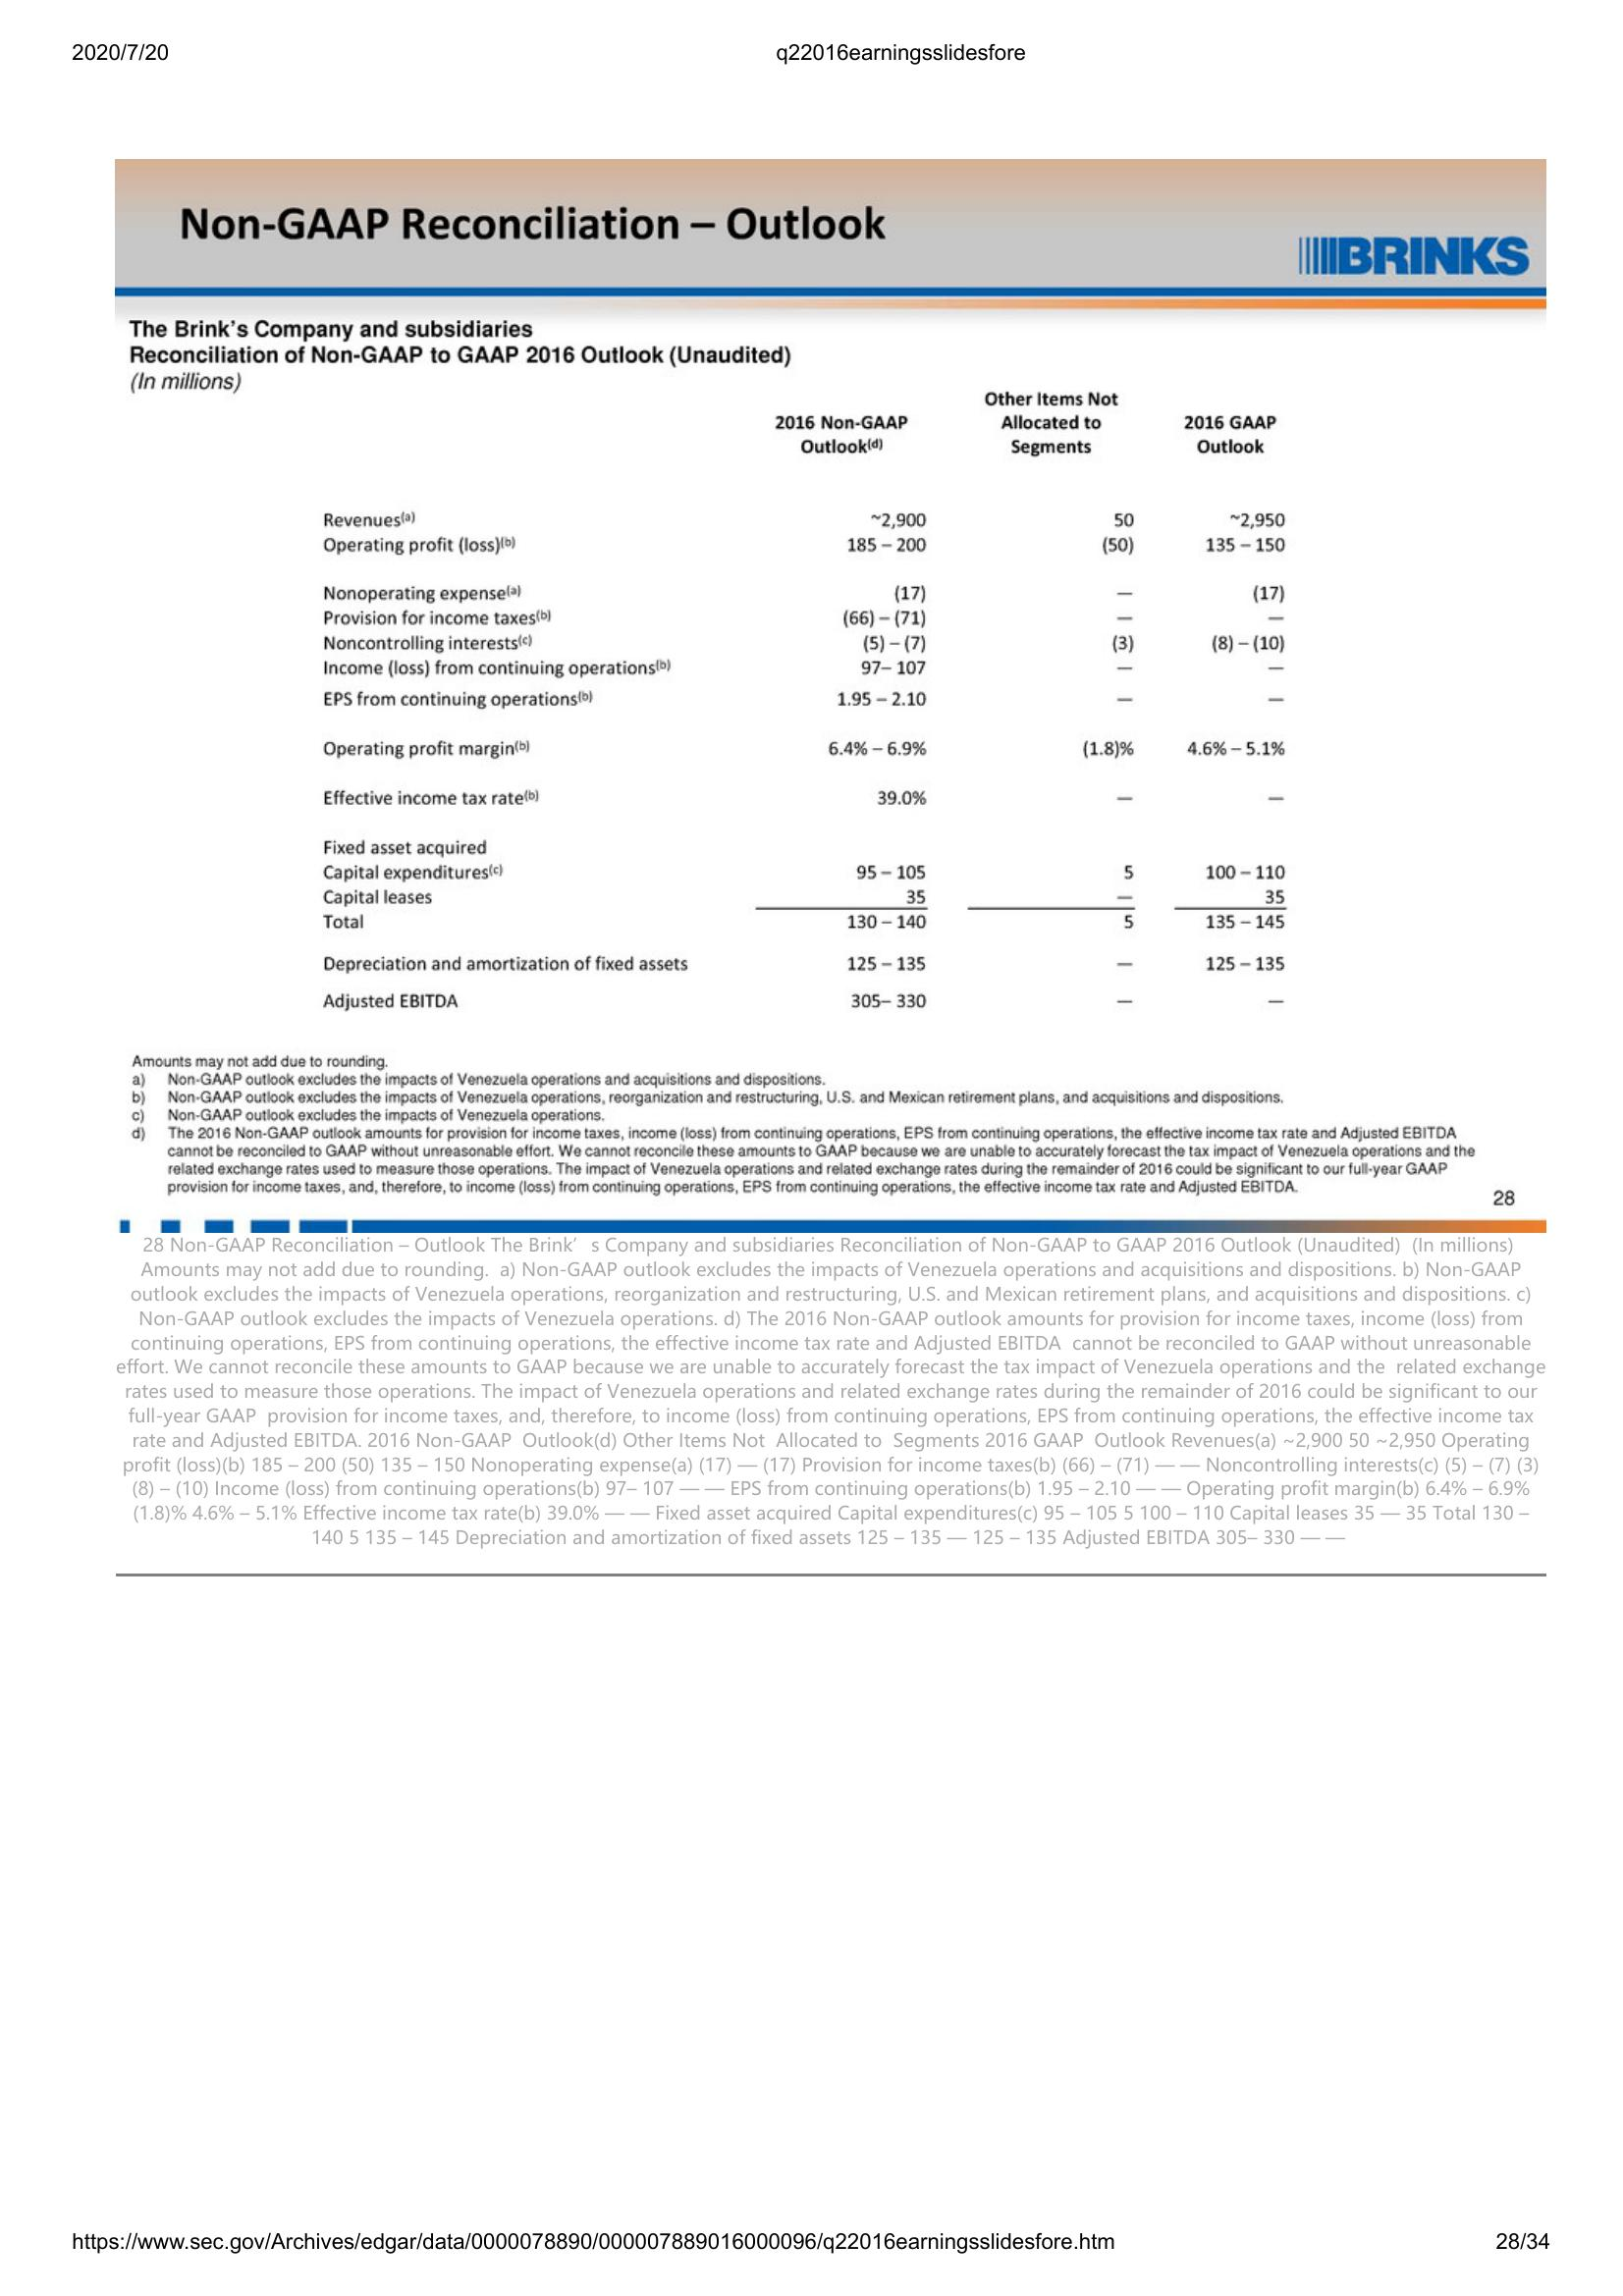table: (311, 383, 1298, 1032)
